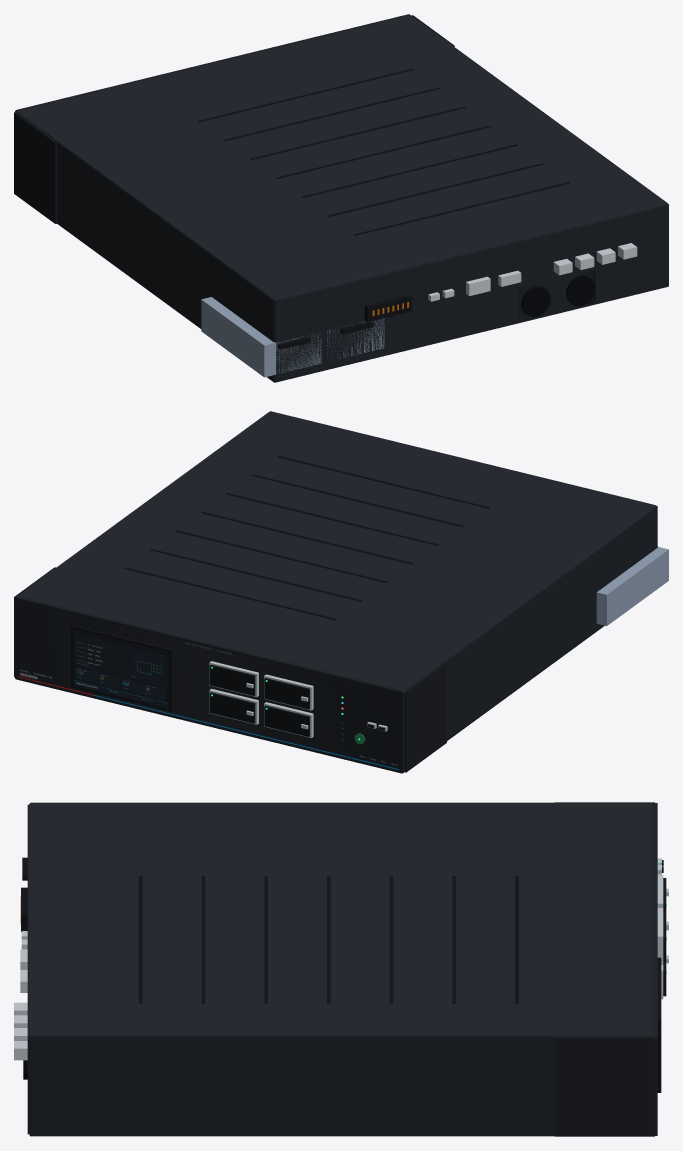
Rendered from security-platform.glb.
3 renders of one model, top to bottom at view 1: azimuth 30°, elevation 25°; view 2: azimuth 150°, elevation 25°; view 3: azimuth 270°, elevation 25°, orthographic. The views are drawn at different scales.
Parts seen in each view (by area): view 1: Sp_TopCover, SpCaseMetal_46, Sp_UChassis, SpRackEar_05, SpPsuAlum_102, SpPsuAlum_147, SpCaseMetal_16, SpBlackPlastic_91, part_105, part_115, SpPsuAlum_146, SpBlackPlastic_15 (+6 smaller); view 2: Sp_TopCover, Sp_FrontPanel, Sp_UChassis, SpDashboardMat_18, SpCaseMetal_16, SpRackEar_05, SpPsuAlum_102, SpBlackPlastic_17, SpBlackPlastic_21, SpBlackPlastic_29, SpBlackPlastic_33, SpBlackPlastic_25 (+8 smaller); view 3: Sp_TopCover, Sp_UChassis, SpRackEar_01, SpCaseMetal_16, SpCaseMetal_46, SpBlackPlastic_17, SpBlackPlastic_09, SpBlackPlastic_10, SpBlackPlastic_13, SpBlackPlastic_11, SpBlackPlastic_12, SpBlackPlastic_14 (+1 smaller).
Boxes of the visible parts, left/top/right/bottom form: Sp_TopCover: left=18, top=16, right=667, bottom=300; SpCaseMetal_46: left=275, top=205, right=668, bottom=381; Sp_UChassis: left=57, top=142, right=668, bottom=382; SpRackEar_05: left=14, top=112, right=57, bottom=223; SpPsuAlum_102: left=201, top=297, right=273, bottom=376; SpPsuAlum_147: left=202, top=297, right=321, bottom=377; SpCaseMetal_16: left=15, top=14, right=411, bottom=112; SpBlackPlastic_91: left=364, top=294, right=412, bottom=321; part_105: left=566, top=275, right=595, bottom=306; part_115: left=521, top=286, right=550, bottom=317; SpPsuAlum_146: left=327, top=318, right=384, bottom=358; SpBlackPlastic_15: left=198, top=68, right=414, bottom=122; Sp_TopCover: left=18, top=411, right=656, bottom=690; Sp_FrontPanel: left=16, top=600, right=400, bottom=771; Sp_UChassis: left=445, top=506, right=657, bottom=740; SpDashboardMat_18: left=74, top=630, right=167, bottom=707; SpCaseMetal_16: left=14, top=596, right=404, bottom=773; SpRackEar_05: left=404, top=662, right=446, bottom=772; SpPsuAlum_102: left=596, top=548, right=667, bottom=625; SpBlackPlastic_17: left=71, top=625, right=172, bottom=711; SpBlackPlastic_21: left=209, top=664, right=255, bottom=695; SpBlackPlastic_29: left=209, top=692, right=255, bottom=723; SpBlackPlastic_33: left=264, top=705, right=309, bottom=736; SpBlackPlastic_25: left=264, top=678, right=309, bottom=709; Sp_TopCover: left=29, top=802, right=652, bottom=1036; Sp_UChassis: left=29, top=1036, right=554, bottom=1136; SpRackEar_01: left=554, top=1037, right=654, bottom=1136; SpCaseMetal_16: left=652, top=803, right=657, bottom=1135; SpCaseMetal_46: left=27, top=804, right=29, bottom=1134; SpBlackPlastic_17: left=657, top=957, right=661, bottom=1092; SpBlackPlastic_09: left=138, top=876, right=142, bottom=1003; SpBlackPlastic_10: left=201, top=876, right=205, bottom=1003; SpBlackPlastic_13: left=389, top=876, right=393, bottom=1003; SpBlackPlastic_11: left=264, top=876, right=267, bottom=1003; SpBlackPlastic_12: left=327, top=876, right=330, bottom=1003; SpBlackPlastic_14: left=452, top=876, right=455, bottom=1003.
Bounding box in the file's own units: 0.4546 × 0.0895 × 0.5222.
Materials: 26 (2 with a texture image).
